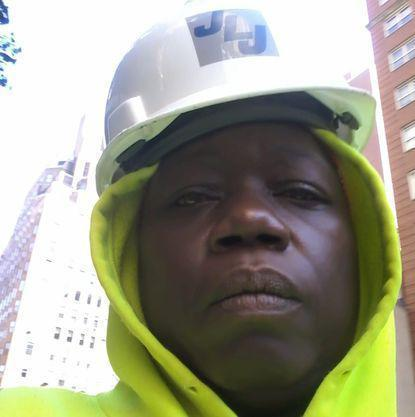helmet: (96, 0, 376, 196)
